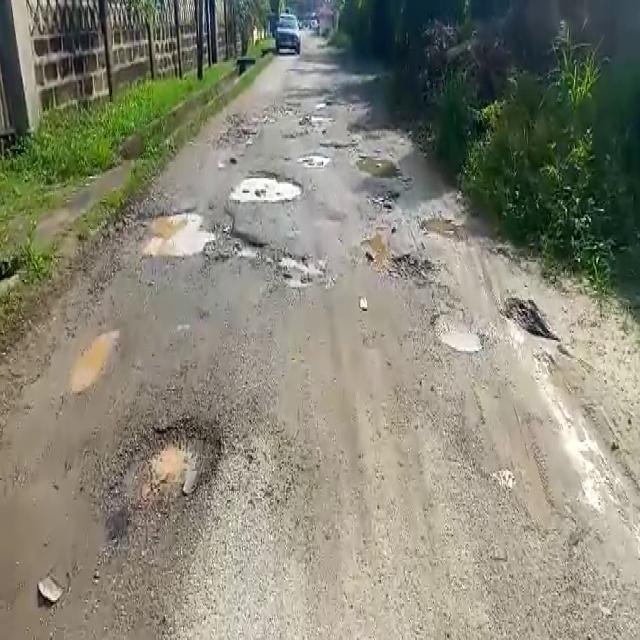Pothole: (139, 417, 226, 513), (226, 227, 328, 289), (140, 208, 211, 262), (227, 168, 305, 202), (433, 310, 491, 354), (296, 150, 334, 165)
